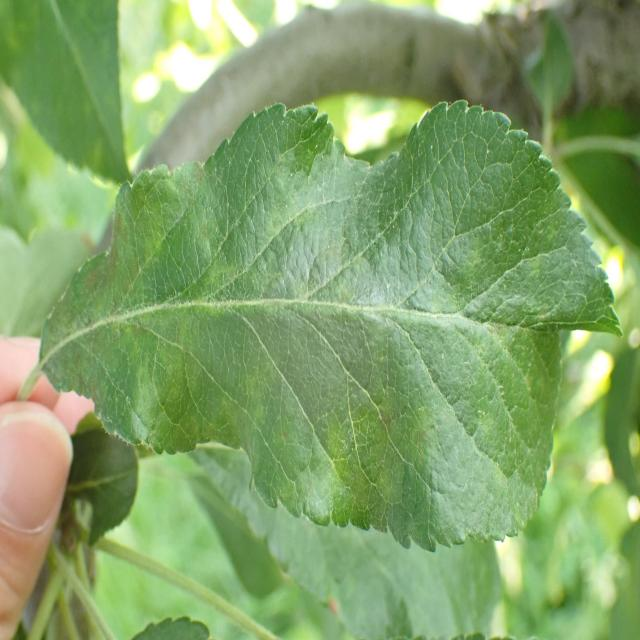scab: (45, 186, 578, 533)
